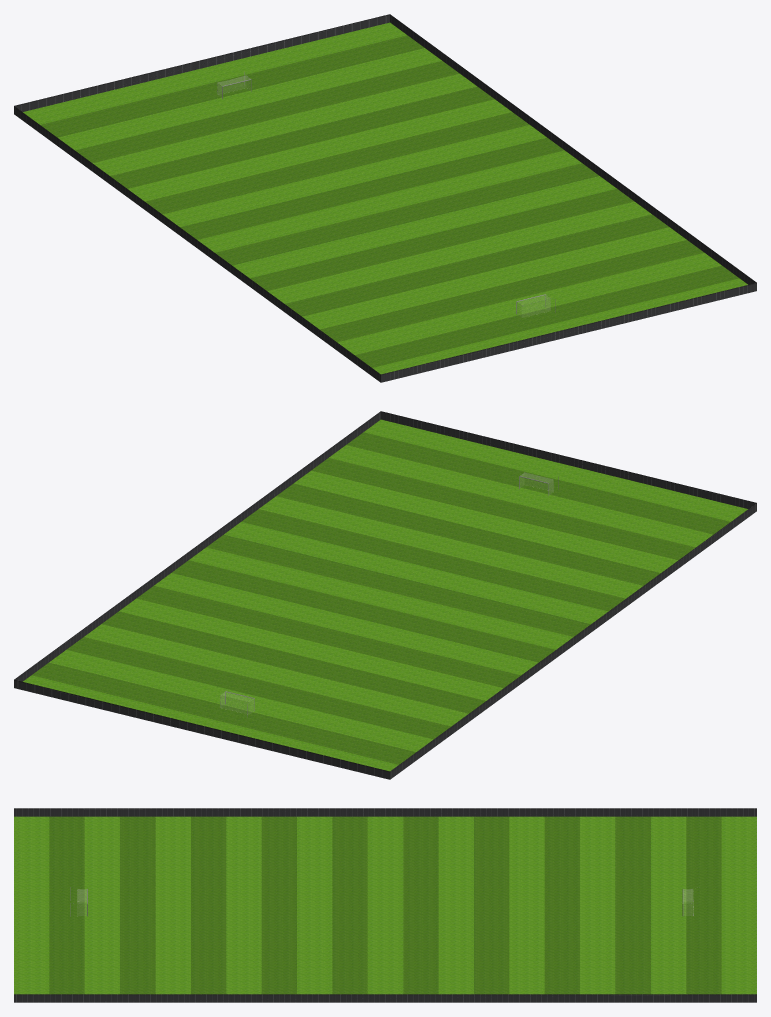
File: campo-gol.glb
3 renders of one model, top to bottom at view 1: azimuth 30°, elevation 25°; view 2: azimuth 150°, elevation 25°; view 3: azimuth 270°, elevation 25°, orthographic.
Visible parts, largest first — view 1: Ground, Fence; view 2: Ground, Fence; view 3: Ground, Fence.
Part boxes in pixels (x1,y1,x2,y2): Ground: (23,22,747,374); Fence: (14,14,756,382); Ground: (23,419,747,771); Fence: (14,411,756,779); Ground: (14,816,756,994); Fence: (14,808,756,1002).
Bounding box in the file's own units: 126 × 4.48 × 212.
Materials: 5 (4 with a texture image).
